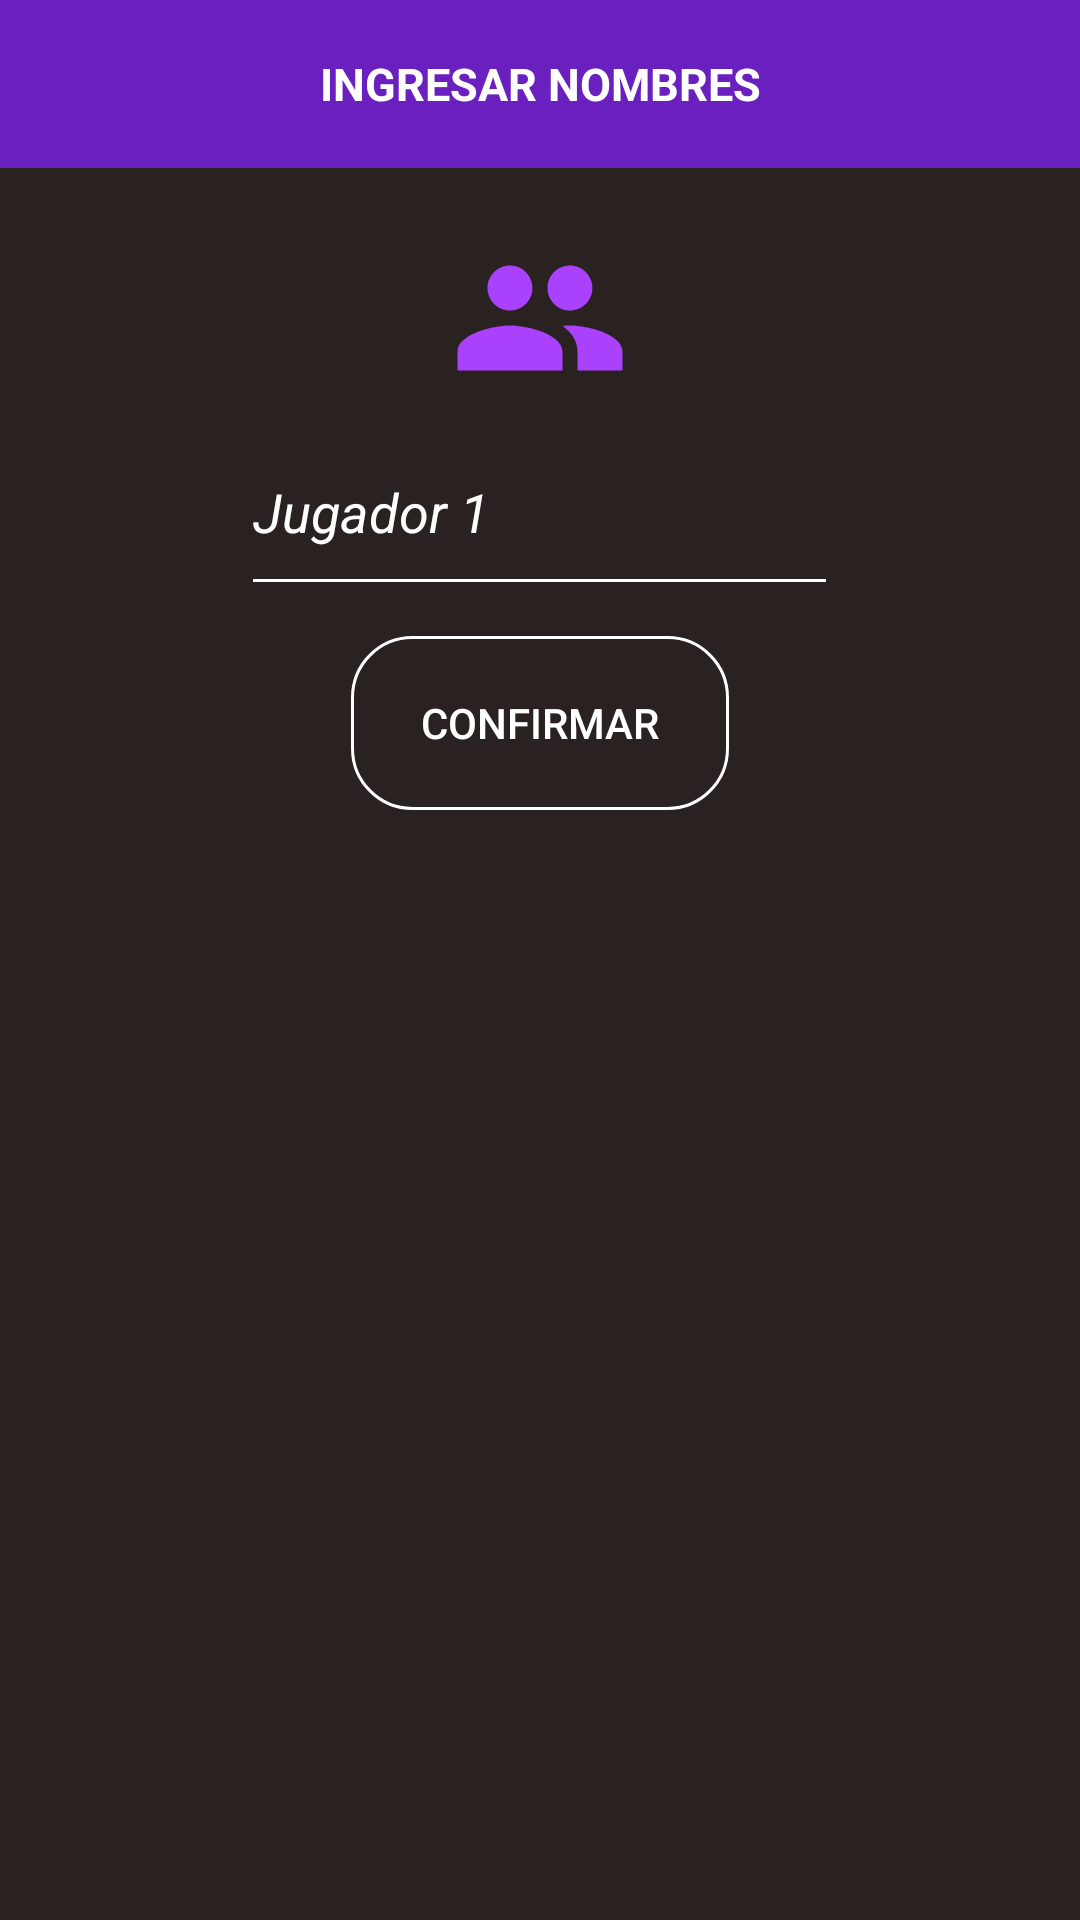

Where to tap for icons on this 1080*1920 app screen, as point (x, y):
ussers: point (540, 318)
